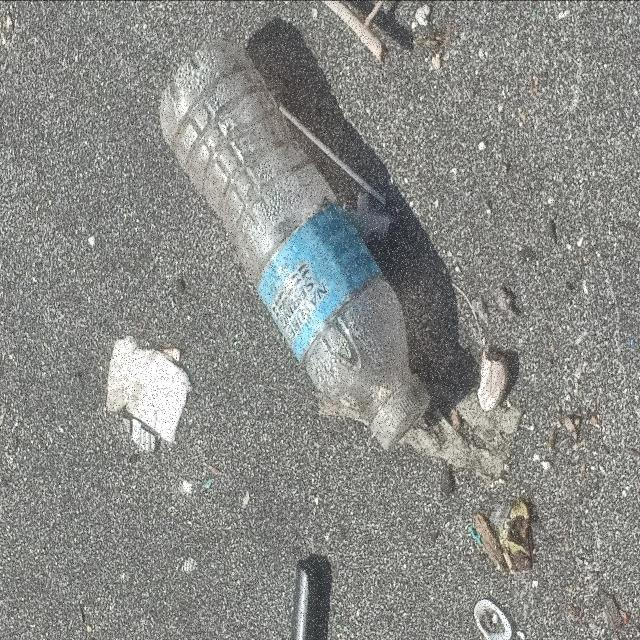plastic_waste: (160, 36, 432, 452)
